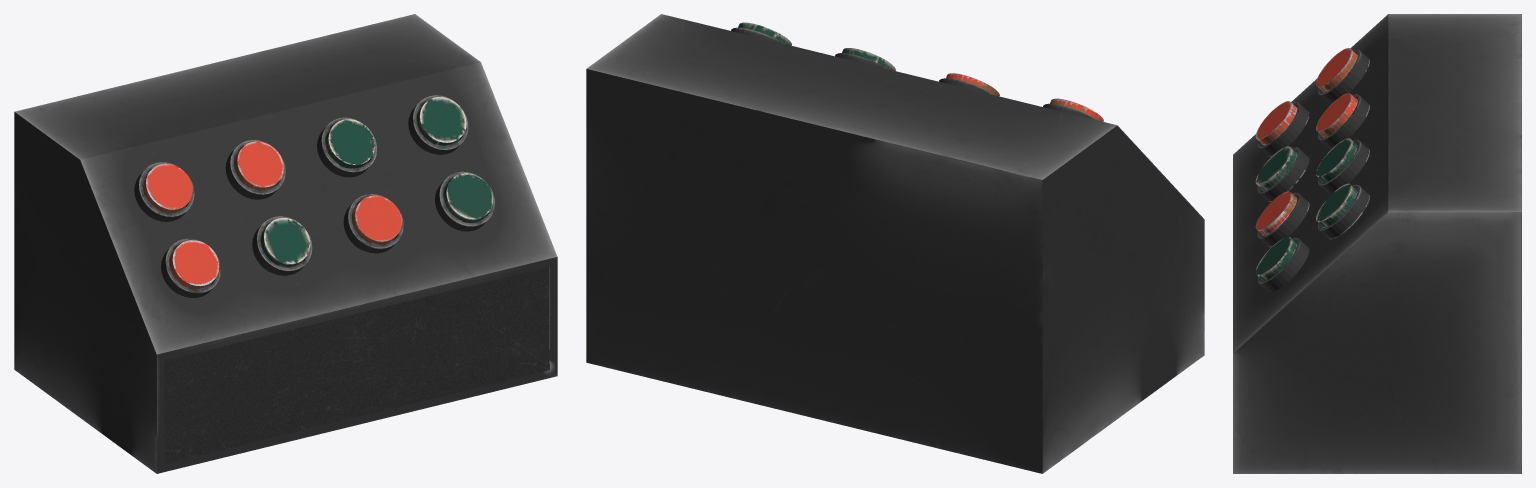
The model's file is boxWithButton 1.fbx.
3 views of the same model, side by side, from view 1: azimuth 30°, elevation 25°; view 2: azimuth 150°, elevation 25°; view 3: azimuth 270°, elevation 25° (orthographic). The views are drawn at different scales.
Visible parts, largest first — view 1: Body, Box, Circle.001, Circle.005, Circle.009, Circle.011, Circle.013, Circle.015, Circle.003, Circle.002; view 2: Body; view 3: Body, Circle.009, Circle.005, Circle.002, Circle.015, Circle.013, Circle.003, Circle.011, Circle.001.
Boxes of the visible parts, bbox=[...] form: Body: bbox=[14, 14, 557, 473]; Box: bbox=[164, 266, 549, 463]; Circle.001: bbox=[142, 163, 192, 213]; Circle.005: bbox=[325, 119, 375, 168]; Circle.009: bbox=[169, 240, 219, 289]; Circle.011: bbox=[260, 218, 310, 267]; Circle.013: bbox=[352, 195, 401, 245]; Circle.015: bbox=[443, 173, 493, 222]; Circle.003: bbox=[234, 141, 283, 191]; Circle.002: bbox=[416, 97, 466, 146]; Body: bbox=[586, 14, 1204, 473]; Body: bbox=[1233, 14, 1521, 473]; Circle.009: bbox=[1255, 101, 1297, 145]; Circle.005: bbox=[1316, 138, 1357, 182]; Circle.002: bbox=[1316, 183, 1357, 227]; Circle.015: bbox=[1255, 236, 1297, 280]; Circle.013: bbox=[1255, 191, 1297, 235]; Circle.003: bbox=[1316, 93, 1357, 137]; Circle.011: bbox=[1255, 146, 1297, 190]; Circle.001: bbox=[1316, 48, 1357, 92].
Size of the model in its own units: 325 by 200 by 200.
2 materials, 2 textured.
